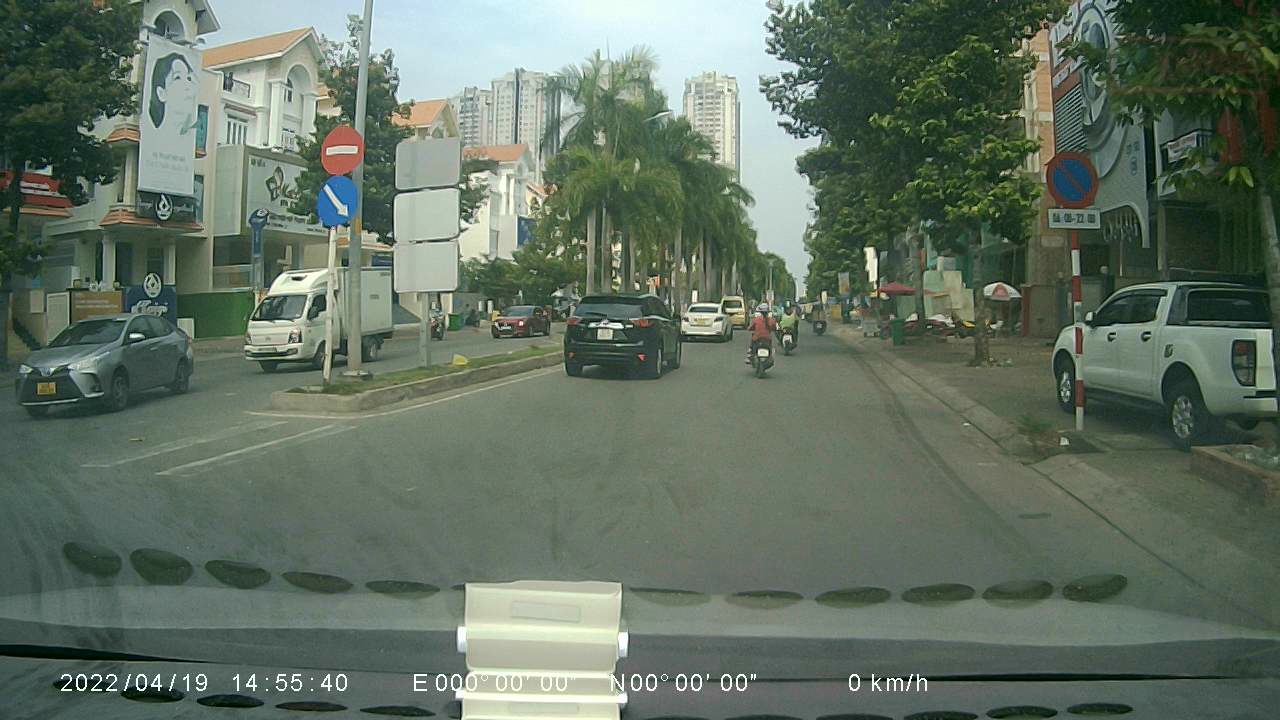Cam di nguoc chieu: (319, 123, 365, 176)
Cam do xe: (1044, 149, 1100, 205)
Huong di phai re phai: (315, 176, 359, 226)
